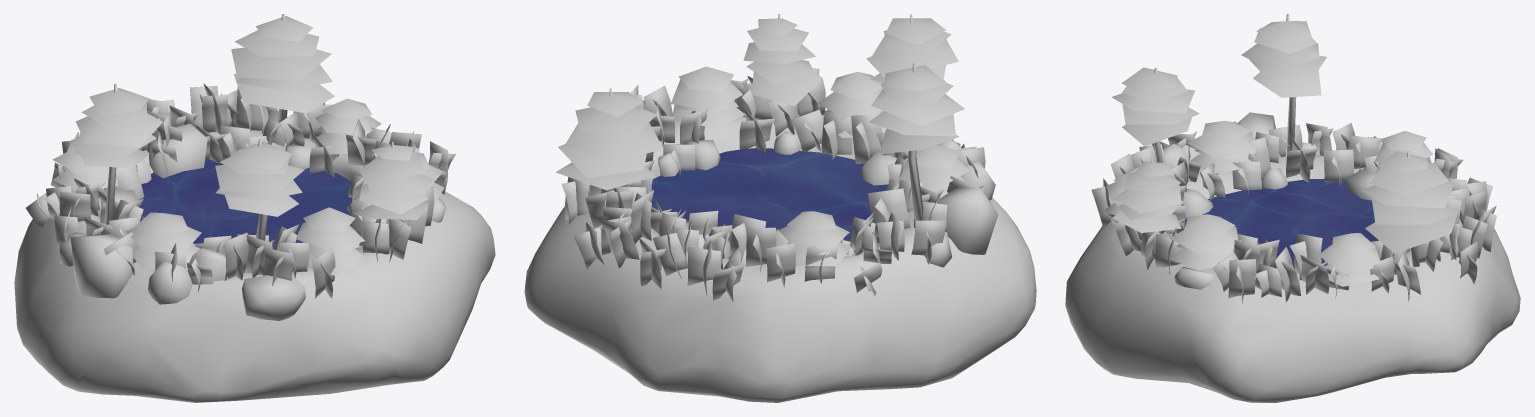
Rendered from DuckPond2.fbx.
The picture shows the model from 3 angles, left to right: view 1: azimuth 30°, elevation 25°; view 2: azimuth 150°, elevation 25°; view 3: azimuth 270°, elevation 25°; orthographic projection. The views are drawn at different scales.
Visible parts, largest first — view 1: Pond.001, Water.001, LOD_0123.Sapling.002, LOD_0123.Sapling.004, LOD_0123.Stone.010, LOD_0123.Sapling.001, LOD_0123.Sapling.003, LOD_0123.Bush.005, LOD_0123.Stone.007, LOD_0123.Bush.002, LOD_0123.Stone.008, LOD_0123.Bush.004 (+31 smaller); view 2: Pond.001, Water.001, LOD_0123.Sapling.002, LOD_0123.Sapling.004, LOD_0123.Sapling.003, LOD_0123.Sapling.001, LOD_0123.Stone.010, LOD_0123.Bush.003, LOD_0123.Bush.001, LOD_0123.Bush.005, LOD_0123.Bush.002, LOD_0123.Grass.038 (+39 smaller); view 3: Pond.001, Water.001, LOD_0123.Sapling.002, LOD_0123.Sapling.004, LOD_0123.Sapling.001, LOD_0123.Sapling.003, LOD_0123.Bush.003, LOD_0123.Bush.002, LOD_0123.Bush.004, LOD_0123.Stone.010, LOD_0123.Bush.001, LOD_0123.Grass.020 (+32 smaller).
Boxes of the visible parts, x1,y1,x2,y2 form: Pond.001: (14,130,495,402); Water.001: (139,159,352,249); LOD_0123.Sapling.002: (231,14,334,123); LOD_0123.Sapling.004: (73,84,162,224); LOD_0123.Stone.010: (70,234,228,304); LOD_0123.Sapling.001: (215,139,304,240); LOD_0123.Sapling.003: (353,141,434,223); LOD_0123.Bush.005: (295,207,368,275); LOD_0123.Stone.007: (104,124,207,200); LOD_0123.Bush.002: (125,212,201,267); LOD_0123.Stone.008: (242,275,305,320); LOD_0123.Bush.004: (311,98,381,154); Pond.001: (524,114,1036,402); Water.001: (651,148,888,251); LOD_0123.Sapling.002: (556,88,663,192); LOD_0123.Sapling.004: (869,63,964,226); LOD_0123.Sapling.003: (743,14,822,106); LOD_0123.Sapling.001: (866,14,958,83); LOD_0123.Stone.010: (934,139,998,254); LOD_0123.Bush.003: (671,66,745,128); LOD_0123.Bush.001: (778,211,850,266); LOD_0123.Bush.005: (817,71,886,138); LOD_0123.Bush.002: (899,145,969,198); LOD_0123.Grass.038: (868,188,910,236); Pond.001: (1065,155,1520,402); Water.001: (1184,178,1378,268); LOD_0123.Sapling.002: (1361,151,1458,266); LOD_0123.Sapling.004: (1241,14,1326,158); LOD_0123.Sapling.001: (1111,67,1199,162); LOD_0123.Sapling.003: (1112,158,1184,232); LOD_0123.Bush.003: (1169,214,1238,270); LOD_0123.Bush.002: (1187,120,1255,173); LOD_0123.Bush.004: (1318,233,1380,286); LOD_0123.Stone.010: (1163,112,1280,182); LOD_0123.Bush.001: (1374,131,1433,174); LOD_0123.Grass.020: (1228,259,1255,303).
Size of what is drawn, in the model's own units: 974 by 617 by 998.
